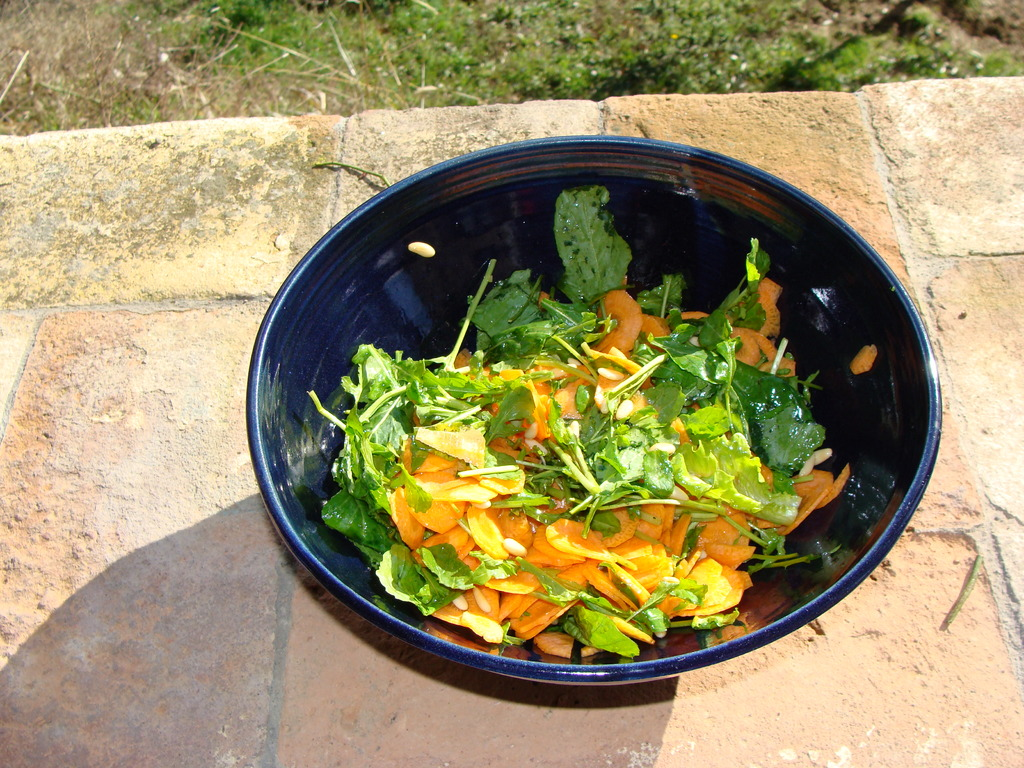salad: (314, 184, 846, 653)
